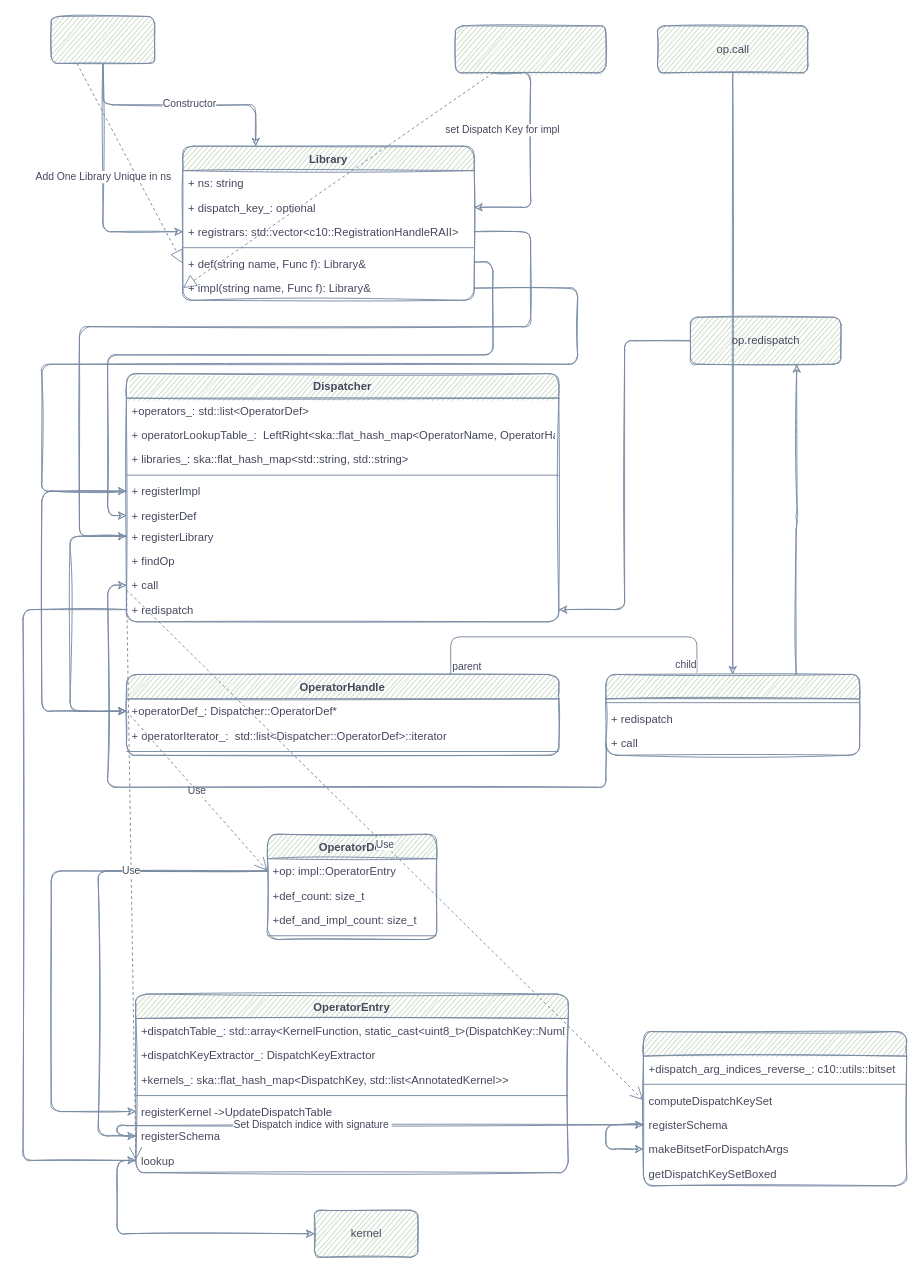
The diagram is 923 pixels wide and 1274 high, and some of its shapes have lost their labels. Each missing label, with the box of its shape:
DispatchKeyExtractor: (642, 1031, 907, 1186)
TORCH_LIBRARY: (50, 16, 155, 63)
TORCH_LIBRARY_IMPL: (454, 25, 606, 73)
TypedOperatorHandle: (605, 674, 860, 755)
